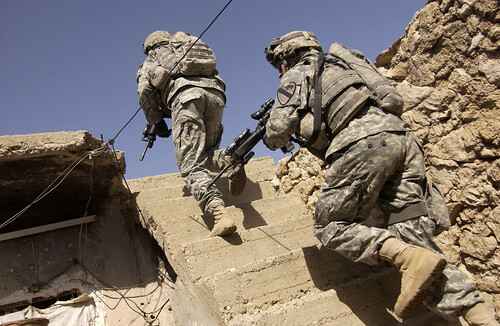sky: (1, 1, 136, 131)
soldier: (256, 20, 482, 326), (129, 23, 239, 236)
weapon: (203, 105, 275, 196), (138, 121, 155, 158)
